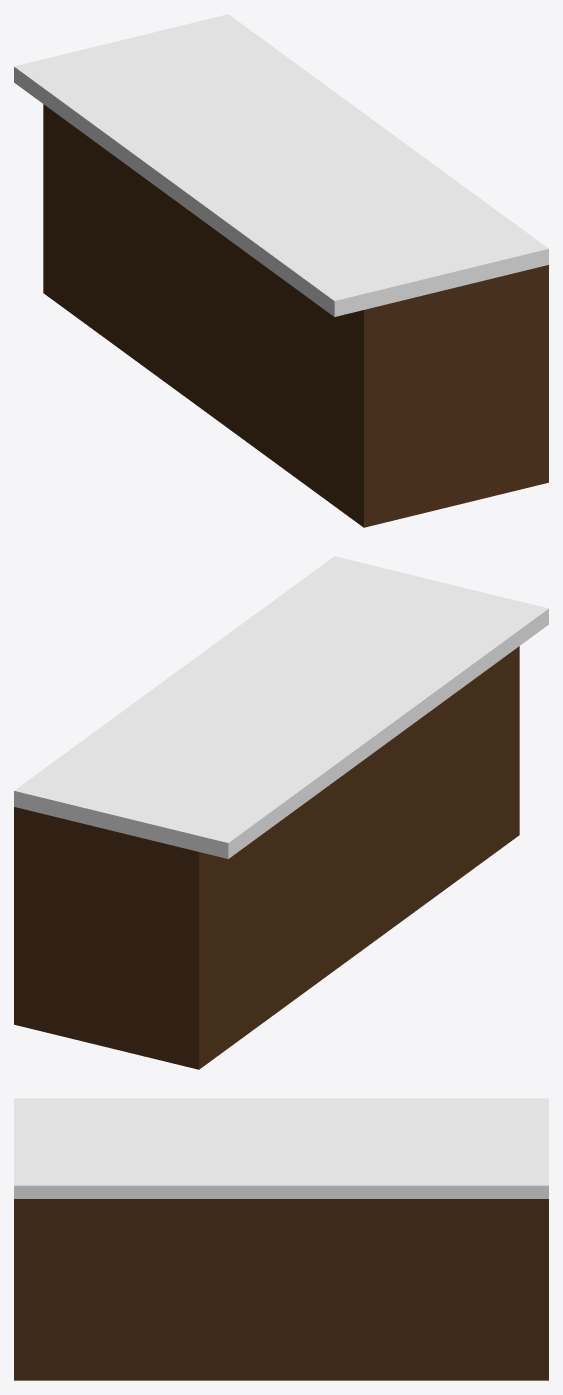
The model's file is BarTable.fbx.
The picture shows the model from 3 angles, top to bottom: view 1: azimuth 30°, elevation 25°; view 2: azimuth 150°, elevation 25°; view 3: azimuth 270°, elevation 25°; orthographic projection. The views are drawn at different scales.
Parts seen in each view (by area): view 1: Bar Table; view 2: Bar Table; view 3: Bar Table.
Part boxes in pixels (x1,y1,x2,y2): Bar Table: [14, 14, 548, 527]; Bar Table: [14, 556, 548, 1069]; Bar Table: [14, 1098, 548, 1380].
Bounding box in the file's own units: 116 × 121 × 300.
